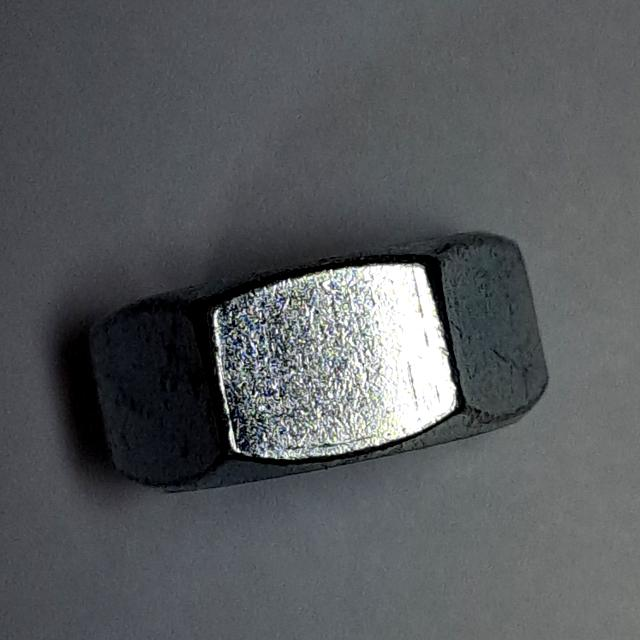Side_Excellent: (76, 209, 572, 519)
